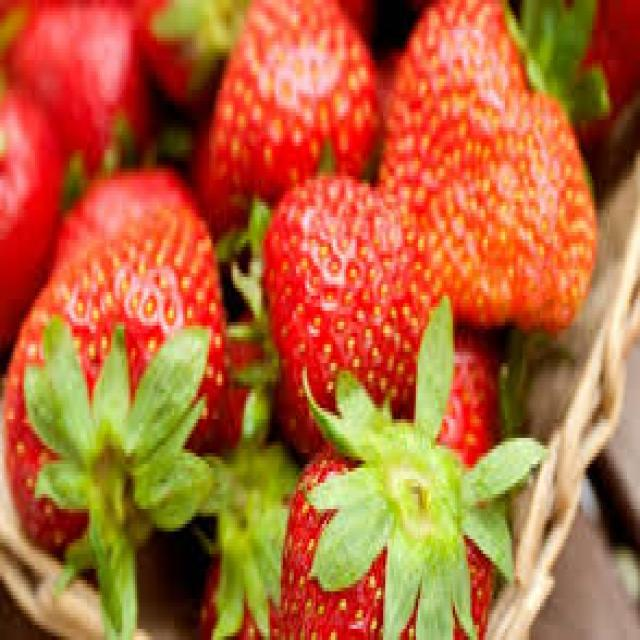organic waste: (0, 128, 488, 636), (7, 206, 224, 580), (0, 0, 638, 116), (377, 0, 590, 322), (279, 404, 492, 636), (261, 176, 425, 438), (198, 0, 378, 198), (16, 4, 152, 172), (63, 157, 207, 288), (425, 322, 542, 479), (535, 0, 638, 150), (0, 105, 63, 344), (130, 0, 230, 109), (218, 311, 276, 453)
